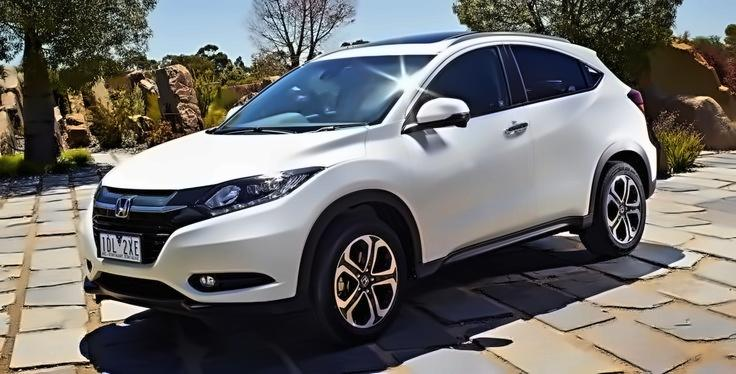Car hood: (95, 120, 365, 194)
Fender - -F-L-: (289, 120, 429, 279)
Fender - -R-L-: (588, 76, 647, 161)
Front bumper: (72, 205, 307, 315)
Headlight - -L-: (188, 159, 330, 223)
Passenger-s door - -F-L-: (423, 36, 530, 265)
Passenger-s door - -R-L-: (520, 38, 611, 226)
Rear bumper: (633, 146, 673, 198)
Rear light - -L-: (621, 82, 661, 119)
Side bumper - -L-: (406, 210, 600, 294)
Side mirror - -L-: (407, 92, 472, 133)
Side mirror - -R-: (222, 99, 251, 124)
